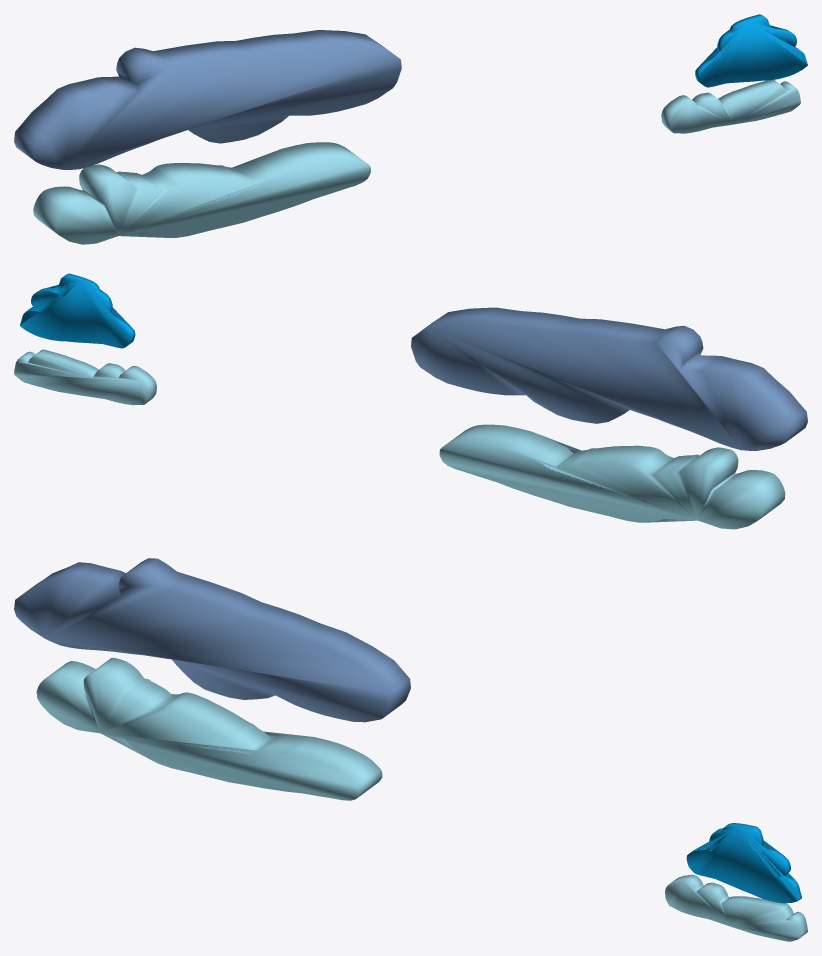
Rendered from rockingchair.fbx_clouds.fbx.
3 views of the same model, one above another, from view 1: azimuth 30°, elevation 25°; view 2: azimuth 150°, elevation 25°; view 3: azimuth 330°, elevation 25° (orthographic). The views are drawn at different scales.
Parts seen in each view (by area): view 1: cloud2, cloud1, cloud3, cloud4; view 2: cloud2, cloud1, cloud3, cloud4; view 3: cloud2, cloud1, cloud3, cloud4.
Boxes of the visible parts, box(x1,y1,x2,y2) form: cloud2: box(14, 30, 401, 169); cloud1: box(33, 142, 370, 244); cloud3: box(695, 14, 807, 87); cloud4: box(661, 80, 800, 133); cloud2: box(411, 307, 807, 450); cloud1: box(439, 424, 785, 529); cloud3: box(20, 273, 135, 348); cloud4: box(14, 349, 156, 405); cloud2: box(14, 558, 410, 722); cloud1: box(36, 657, 382, 800); cloud3: box(686, 823, 801, 903); cloud4: box(665, 874, 807, 941).
Size of the model in its own units: 156 by 39.81 by 9.46.
